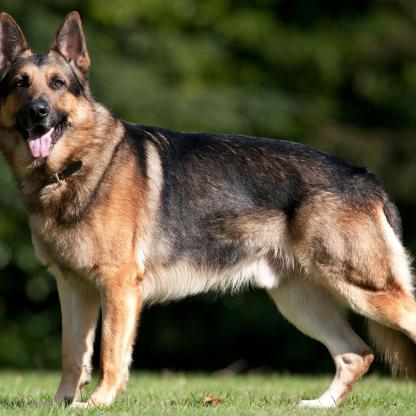dog: (7, 15, 411, 413)
